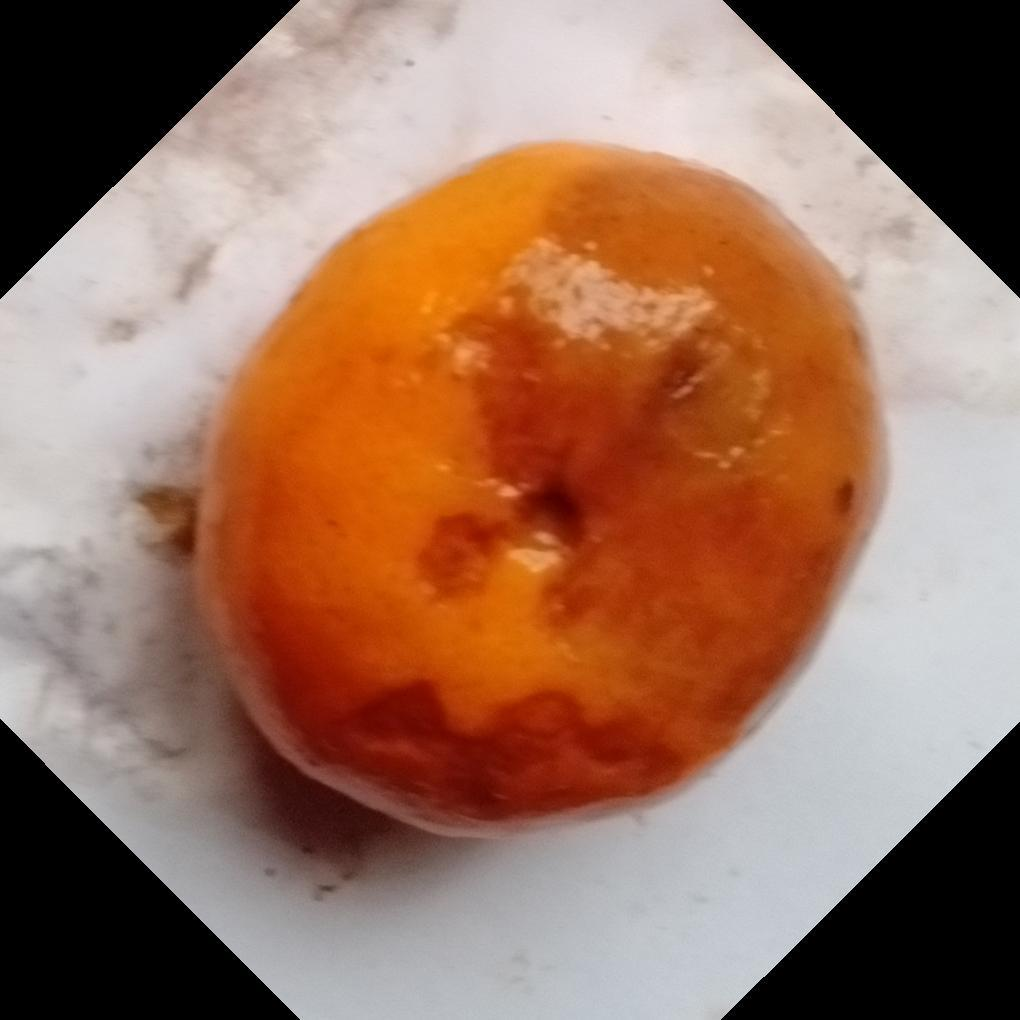FreshOrange: (189, 142, 891, 842)
